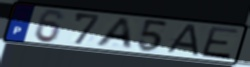5: (135, 18, 171, 54)
6: (32, 8, 67, 44)
7: (73, 12, 103, 46)
A: (93, 17, 135, 51), (162, 24, 201, 58)
E: (199, 26, 241, 61)
